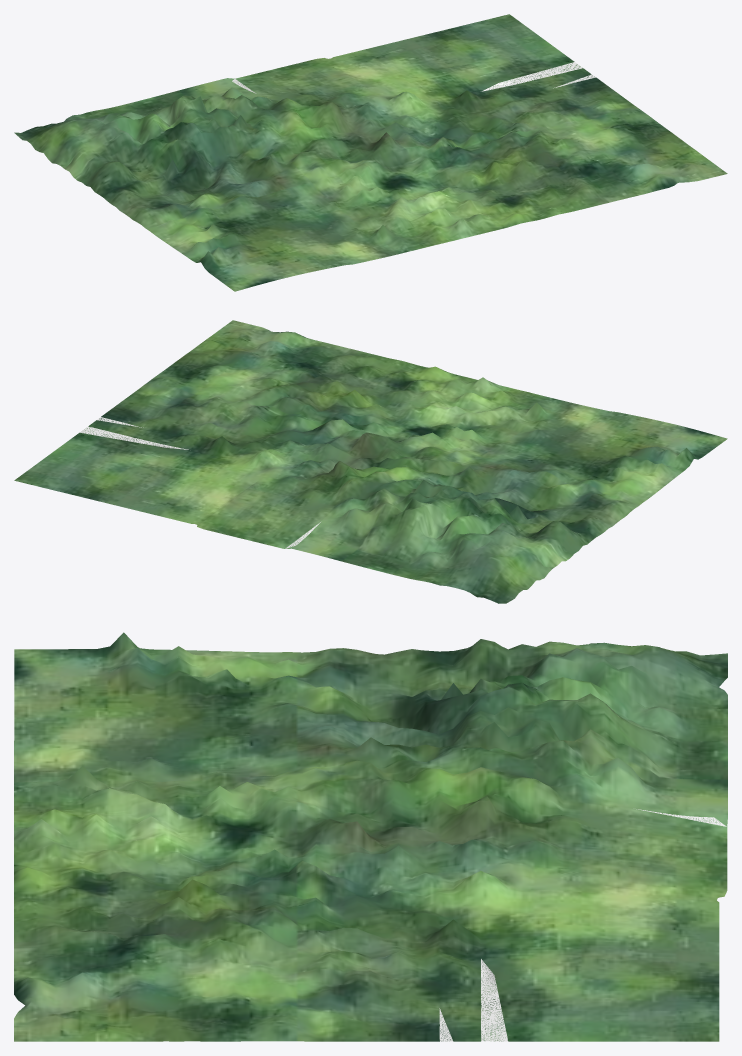
Rendered from MountainRange.dae.
3 views of the same model, one above another, from view 1: azimuth 30°, elevation 25°; view 2: azimuth 150°, elevation 25°; view 3: azimuth 270°, elevation 25° (orthographic). The views are drawn at different scales.
Visible parts, largest first — view 1: group_0 (×2); view 2: group_0 (×2); view 3: group_0 (×2).
Part boxes in pixels (x1=…): group_0 (×2): x1=14, y1=14, x2=727, y2=291; group_0 (×2): x1=14, y1=320, x2=727, y2=603; group_0 (×2): x1=14, y1=632, x2=727, y2=1041.
Size of the model in its own units: 435 by 338 by 37.21.
